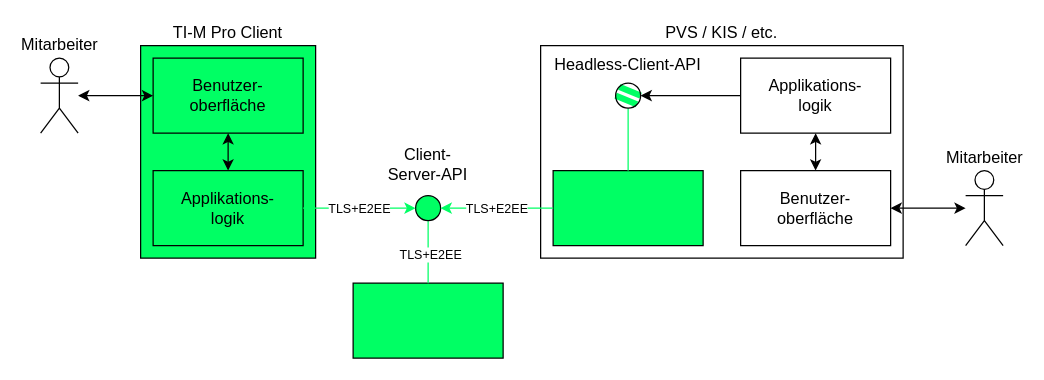
The diagram is 1044 pixels wide and 380 high, and some of its shapes have lost their labels. The centre of each missing label's shape, as x and y in pixels:
"Headless Client" belongs at point (627, 207).
"TI-M Pro Fachdienst" belongs at point (427, 320).
